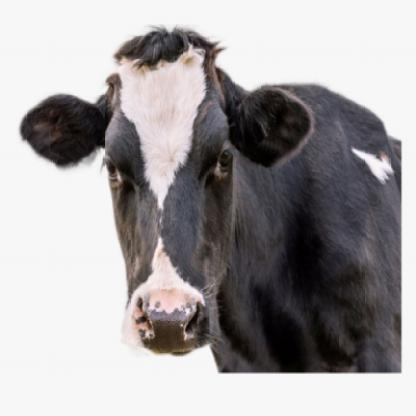lower: (154, 345, 194, 355)
mouth: (121, 282, 221, 355)
upper: (133, 297, 204, 339)
